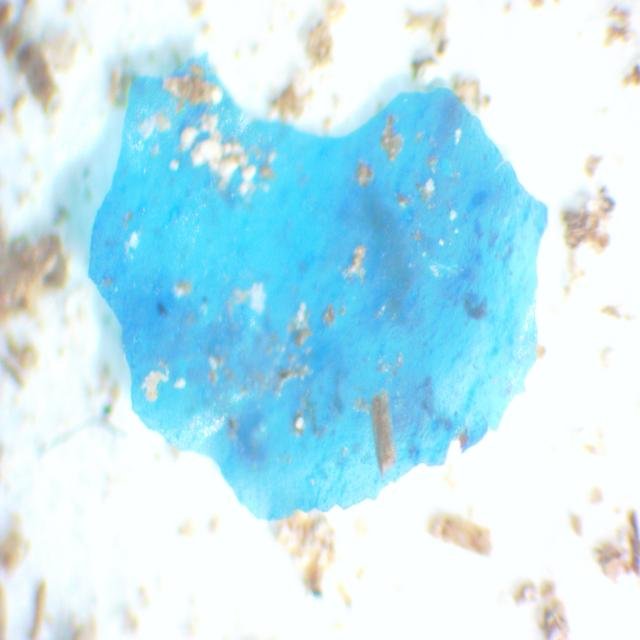microplastic: (83, 55, 548, 516)
